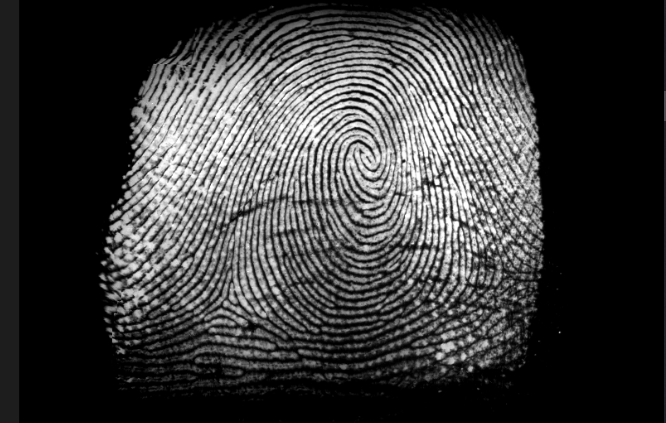nucelo: (340, 136, 382, 182)
verticilo: (207, 280, 240, 324), (489, 260, 520, 296)
